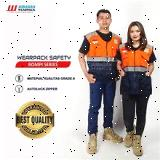Vest: (82, 30, 123, 82), (118, 42, 154, 94)
